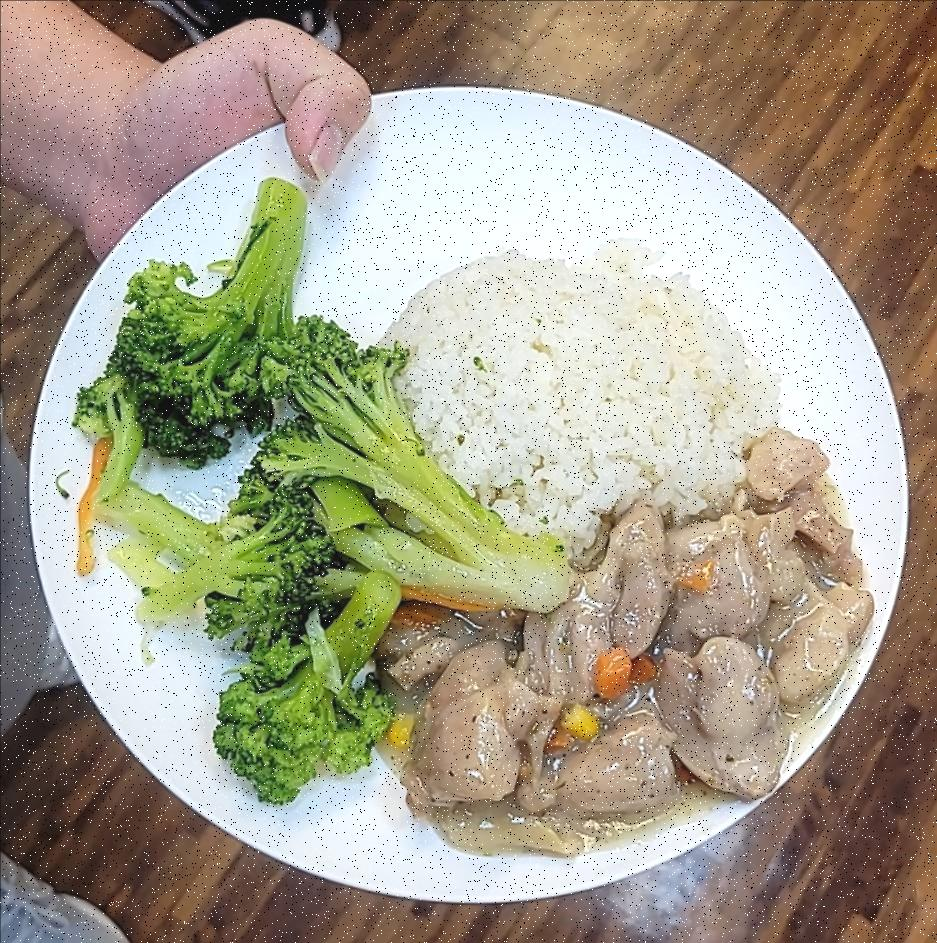plate: (43, 66, 915, 917)
side dish: (75, 167, 560, 789)
white rice: (384, 250, 786, 538)
white sauce chicken: (398, 428, 864, 861)
